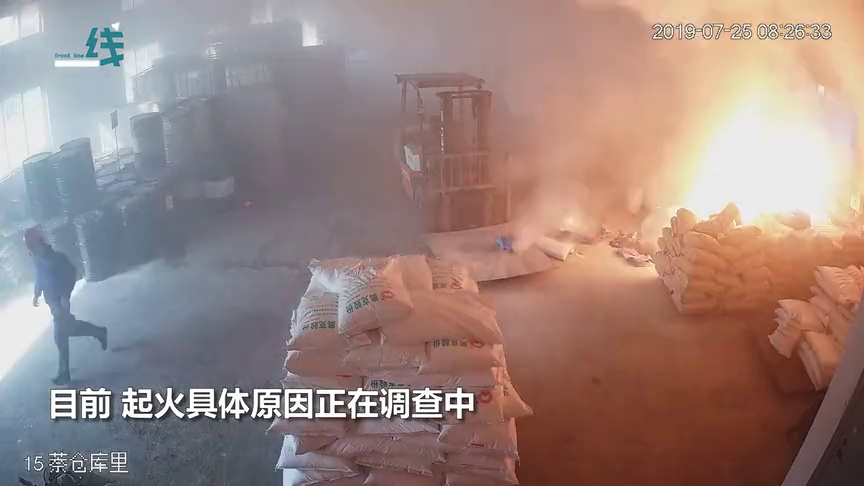fire: (687, 59, 828, 224)
